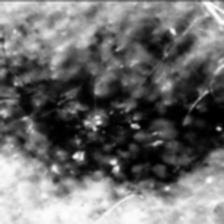Potentially Malignant Skin Tumors: (20, 66, 224, 170)
